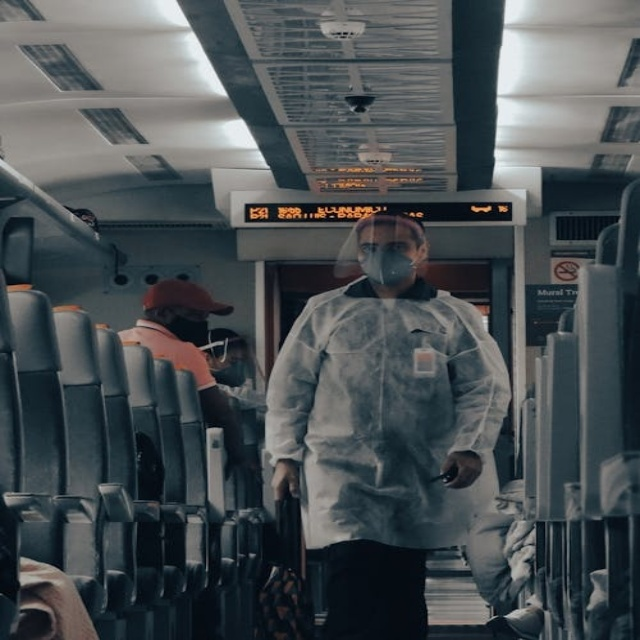Mascara: (355, 250, 416, 286), (163, 311, 215, 344), (212, 354, 255, 391)
Sin_gafas: (353, 236, 413, 254)
Sin_guantes: (434, 445, 484, 491), (270, 459, 303, 499)
